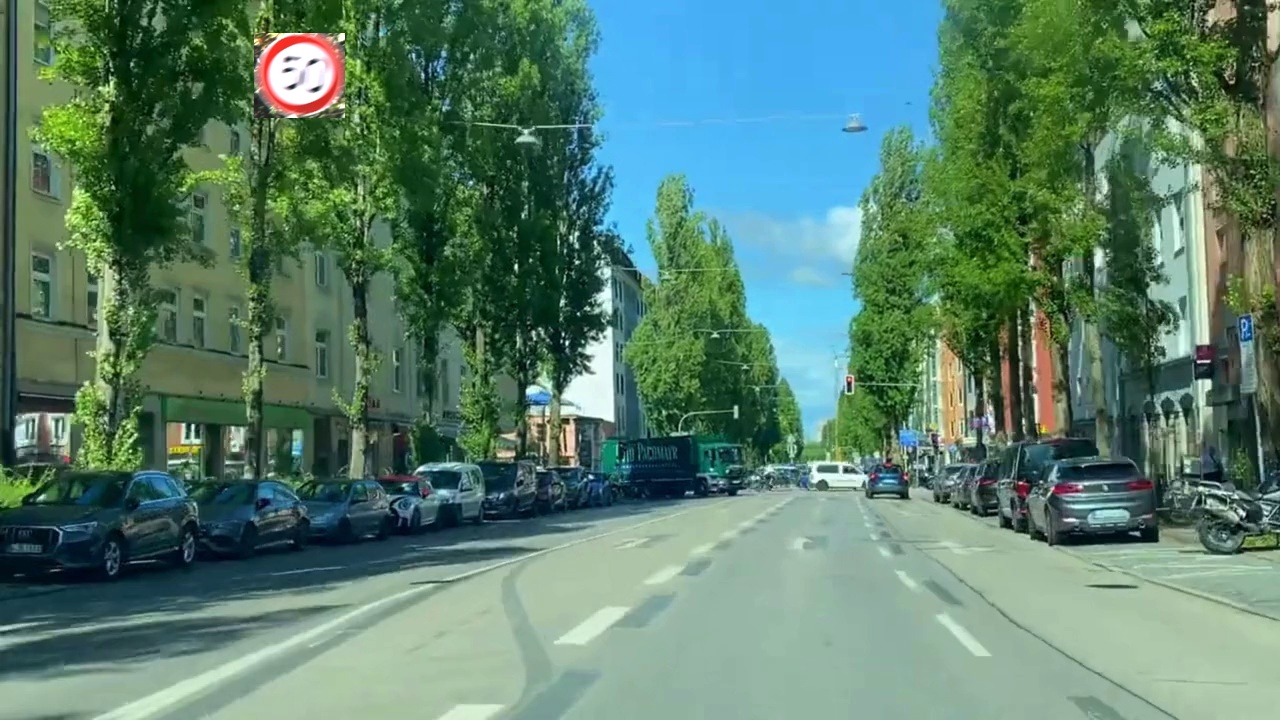Speed 50: (254, 33, 345, 118)
